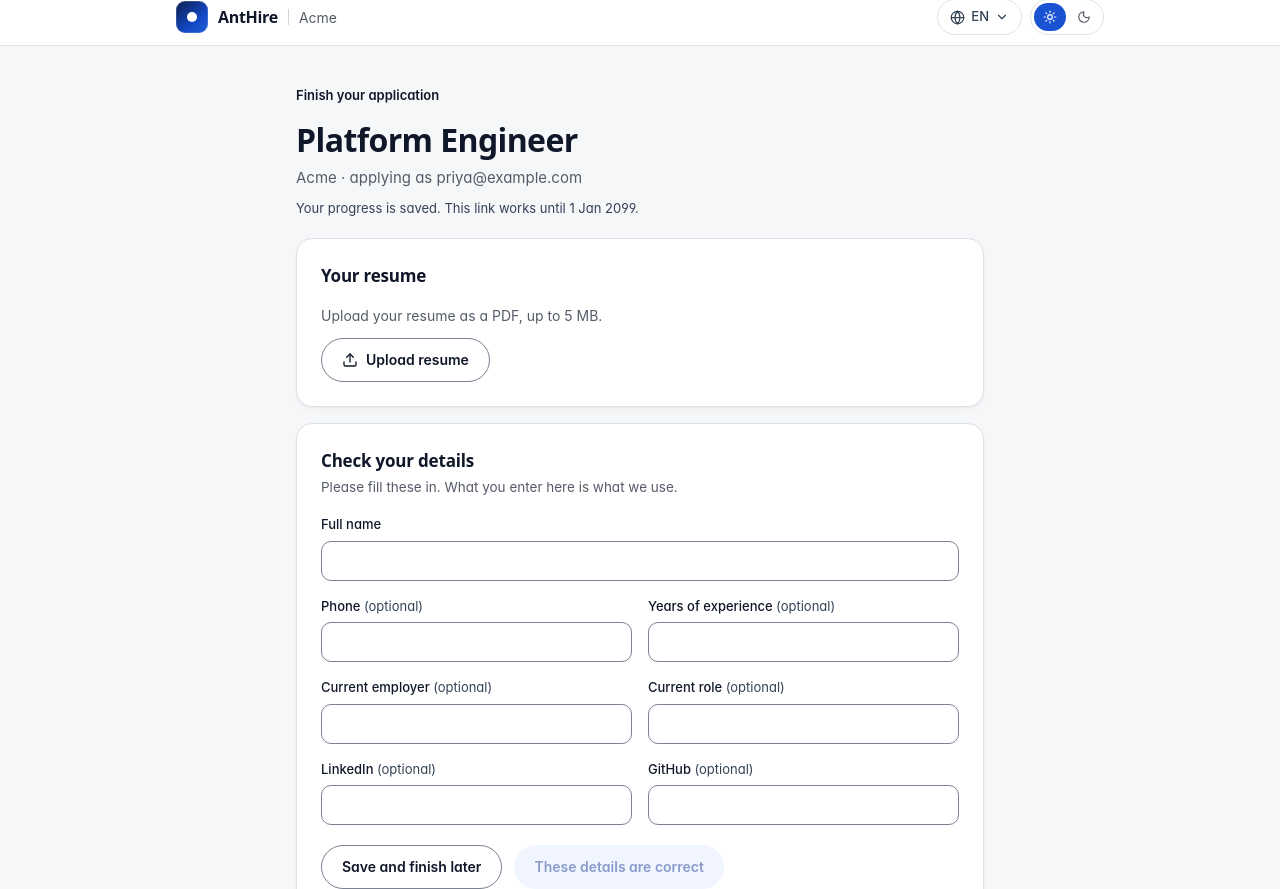
saving › says when a save failed
Click the button "Save and finish later".
click(412, 867)  # box [321,845,502,888]
(page scrolled)
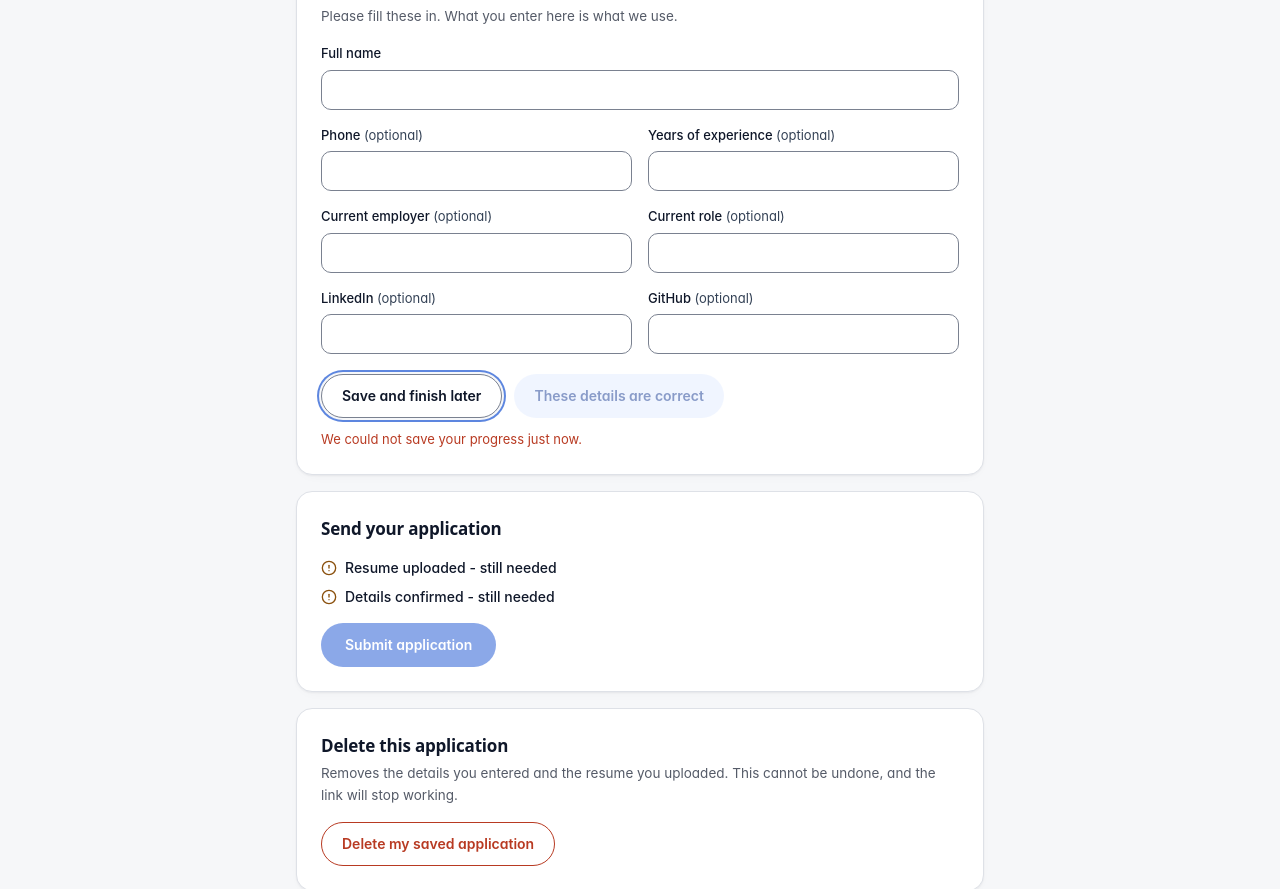
Result: the message shows "could not save" at [321,431,582,447]
